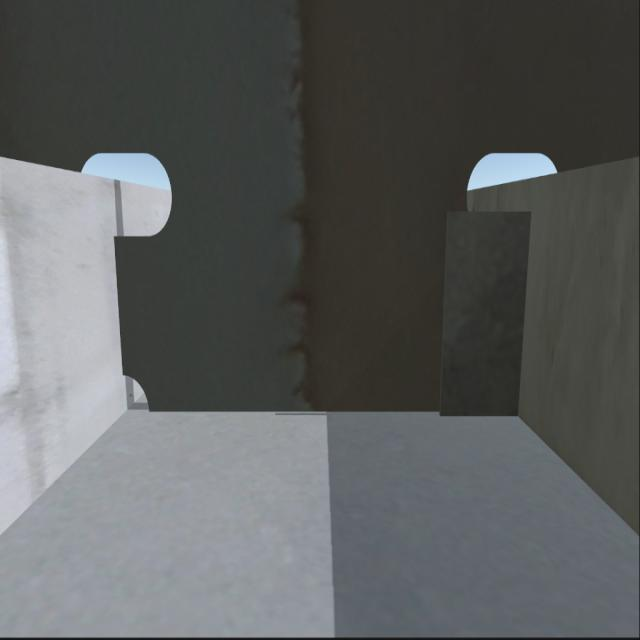fillet_hole: (123, 376, 155, 412)
fillet_yong_jeop_jang: (149, 406, 518, 416)
longi_yong_jeop_jang: (508, 216, 530, 412), (110, 238, 126, 363)
plate_CP01: (447, 209, 526, 419)
